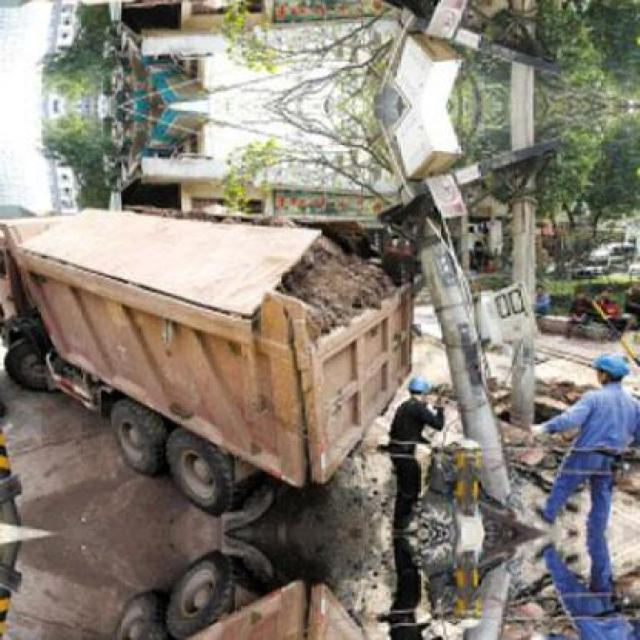helmet: (588, 349, 628, 390), (408, 372, 435, 407)
